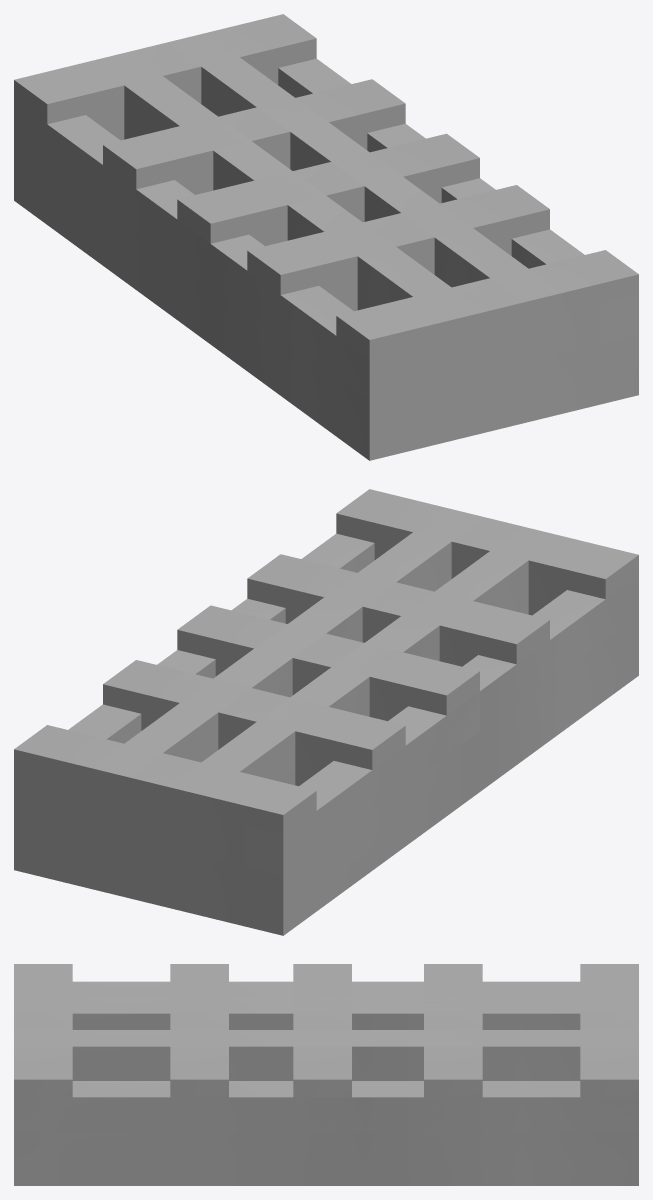
Rendered from tpws_signal.obj.
The picture shows the model from 3 angles, top to bottom: view 1: azimuth 30°, elevation 25°; view 2: azimuth 150°, elevation 25°; view 3: azimuth 270°, elevation 25°; orthographic projection. The views are drawn at different scales.
Visible parts, largest first — view 1: cube; view 2: cube; view 3: cube.
Part boxes in pixels (bbox=[...]): cube: bbox=[14, 14, 638, 460]; cube: bbox=[14, 489, 638, 935]; cube: bbox=[14, 964, 638, 1185].
Bounding box in the file's own units: 0.2188 × 0.0938 × 0.5.
Materials: 1 (1 with a texture image).
